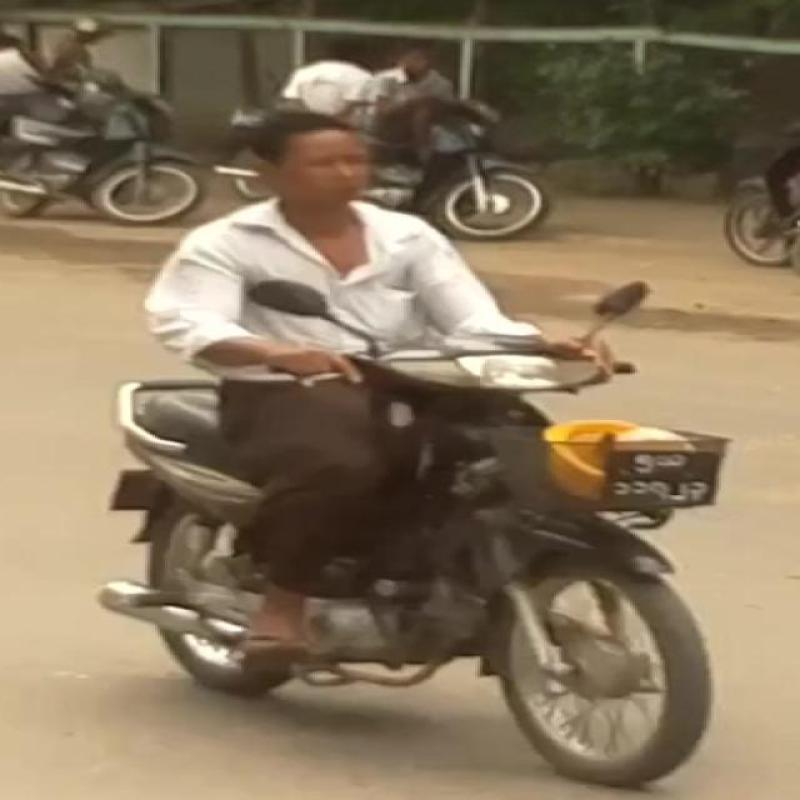nohelmet: (233, 85, 434, 216)
